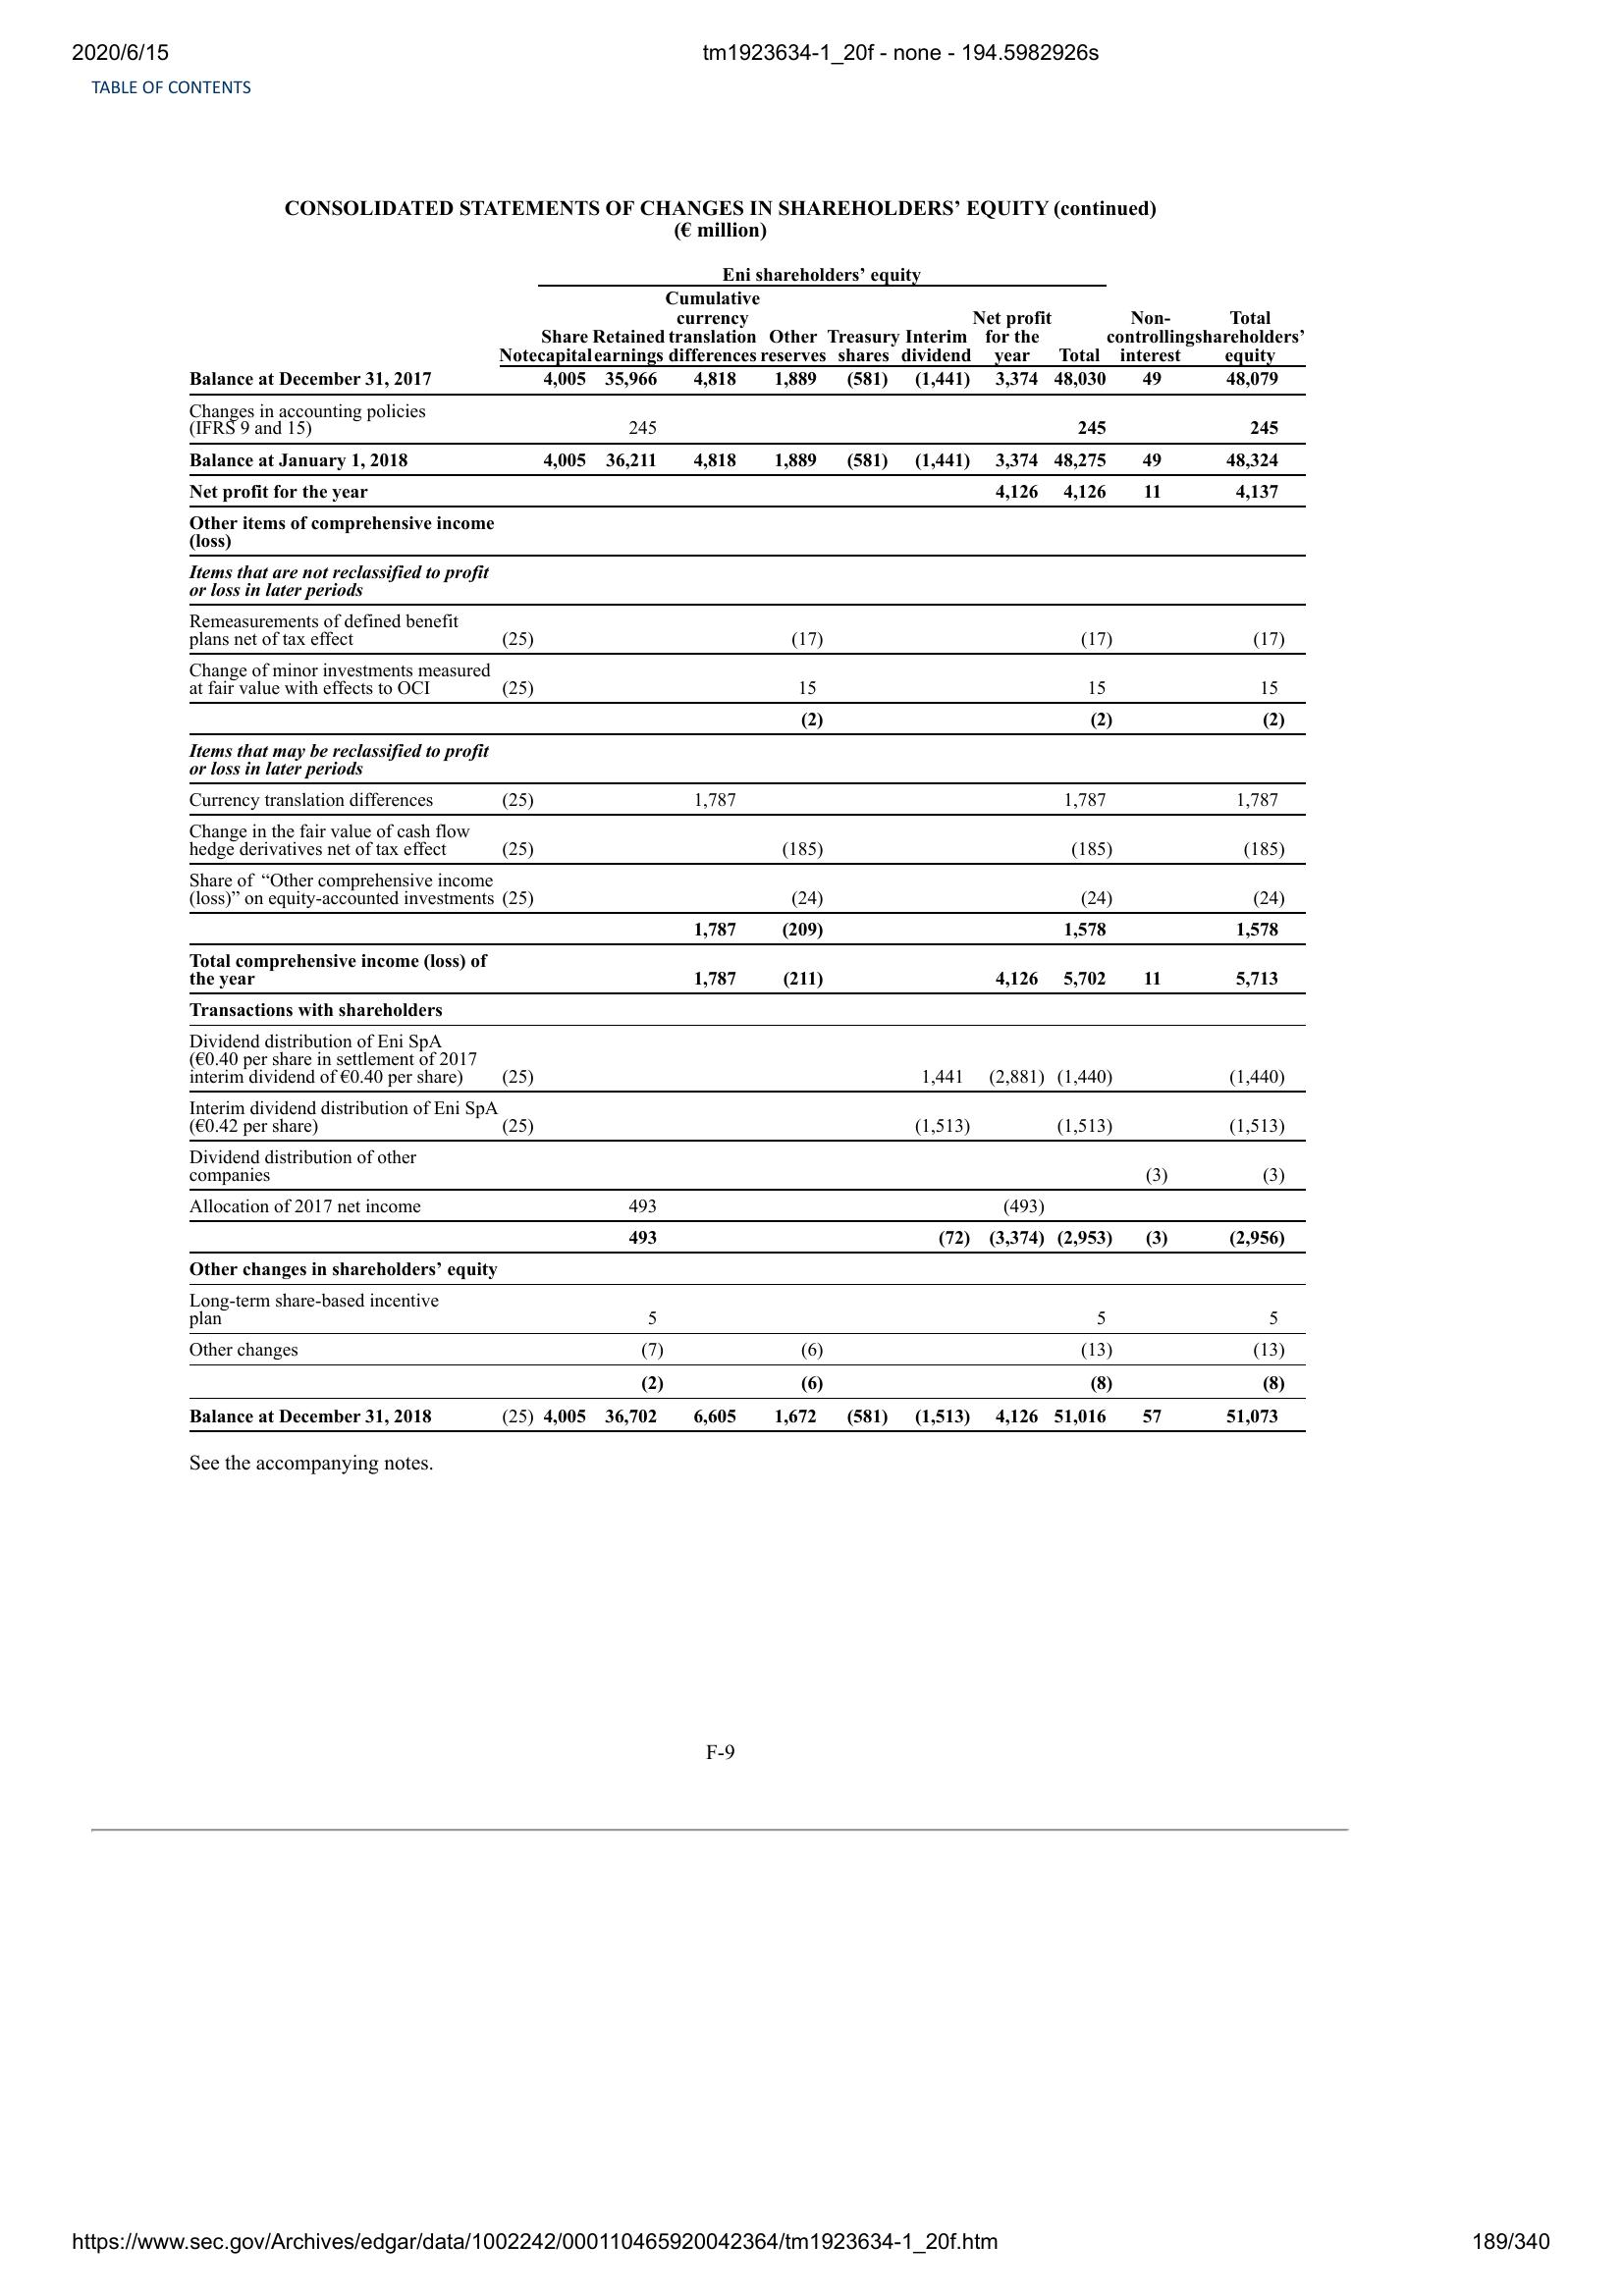table: (183, 267, 1321, 1445)
